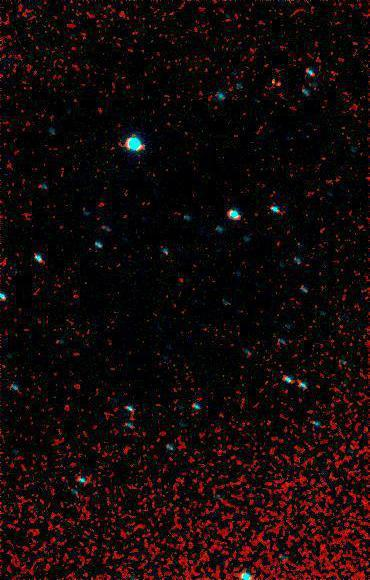star: (262, 70, 292, 100)
